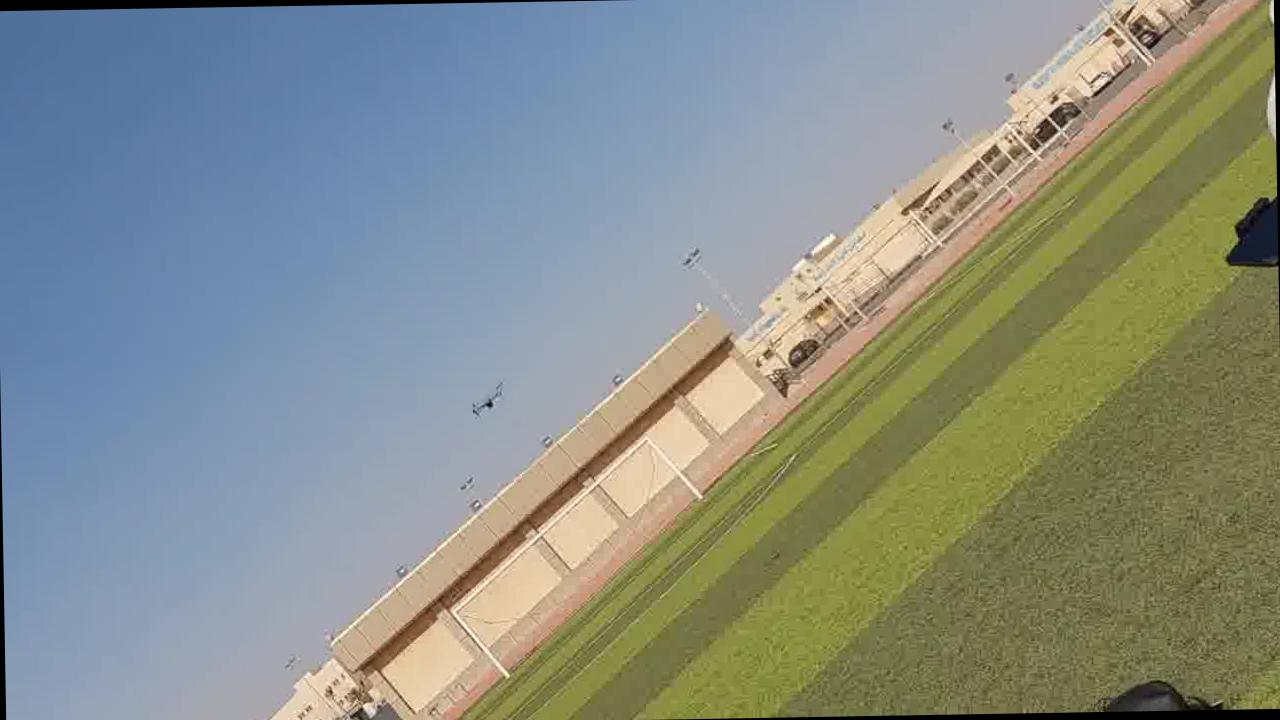drone: (428, 372, 534, 458)
